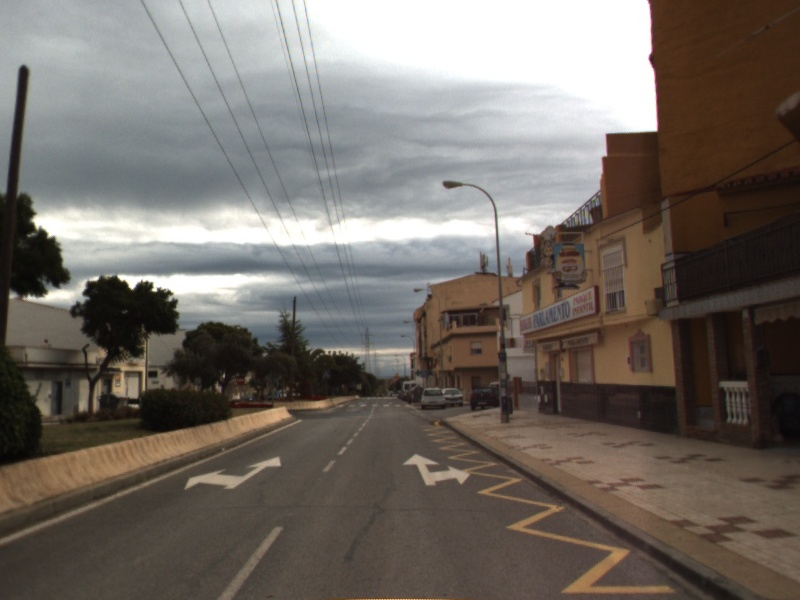STRAIGHT_LEFT: (182, 454, 283, 492)
STRAIGHT_RIGHT: (401, 451, 472, 488)
